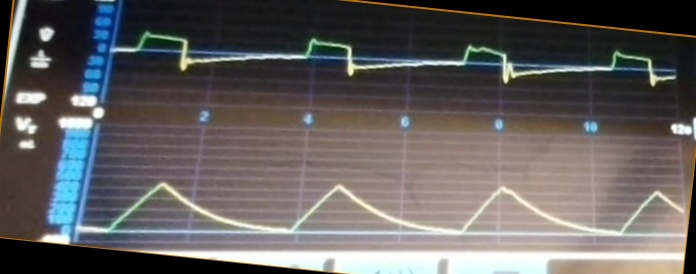Premature_cycling Flow: (111, 29, 676, 105)
Premature_cycling Volume: (81, 178, 682, 241)
